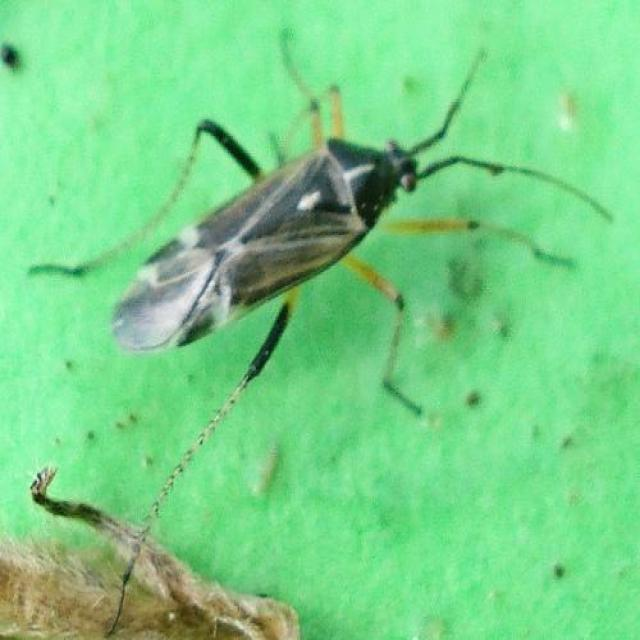Miridae-Adult-: (2, 63, 555, 460)
